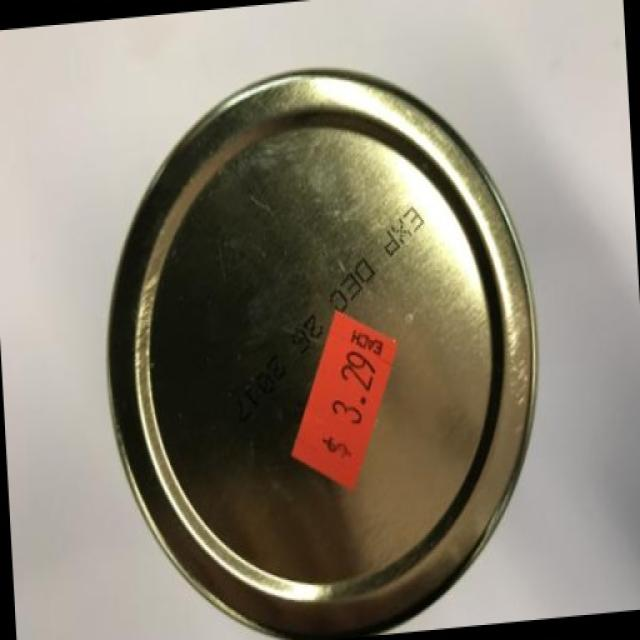vidrio: (72, 26, 569, 640)
